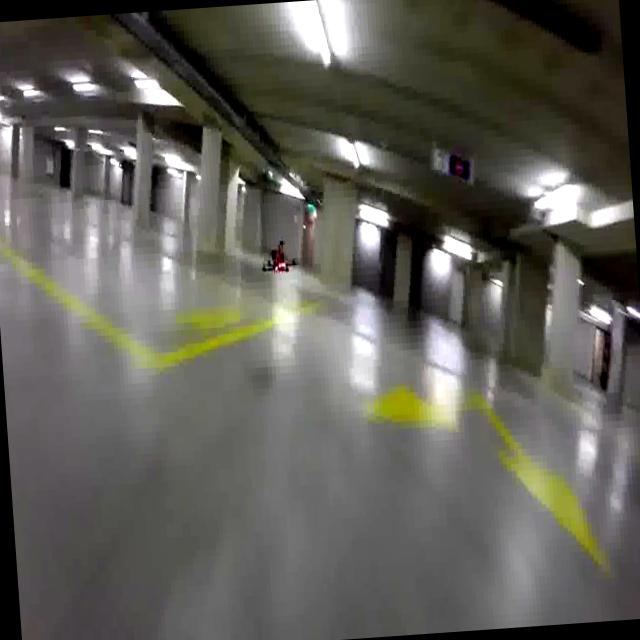drone: (254, 240, 300, 290)
